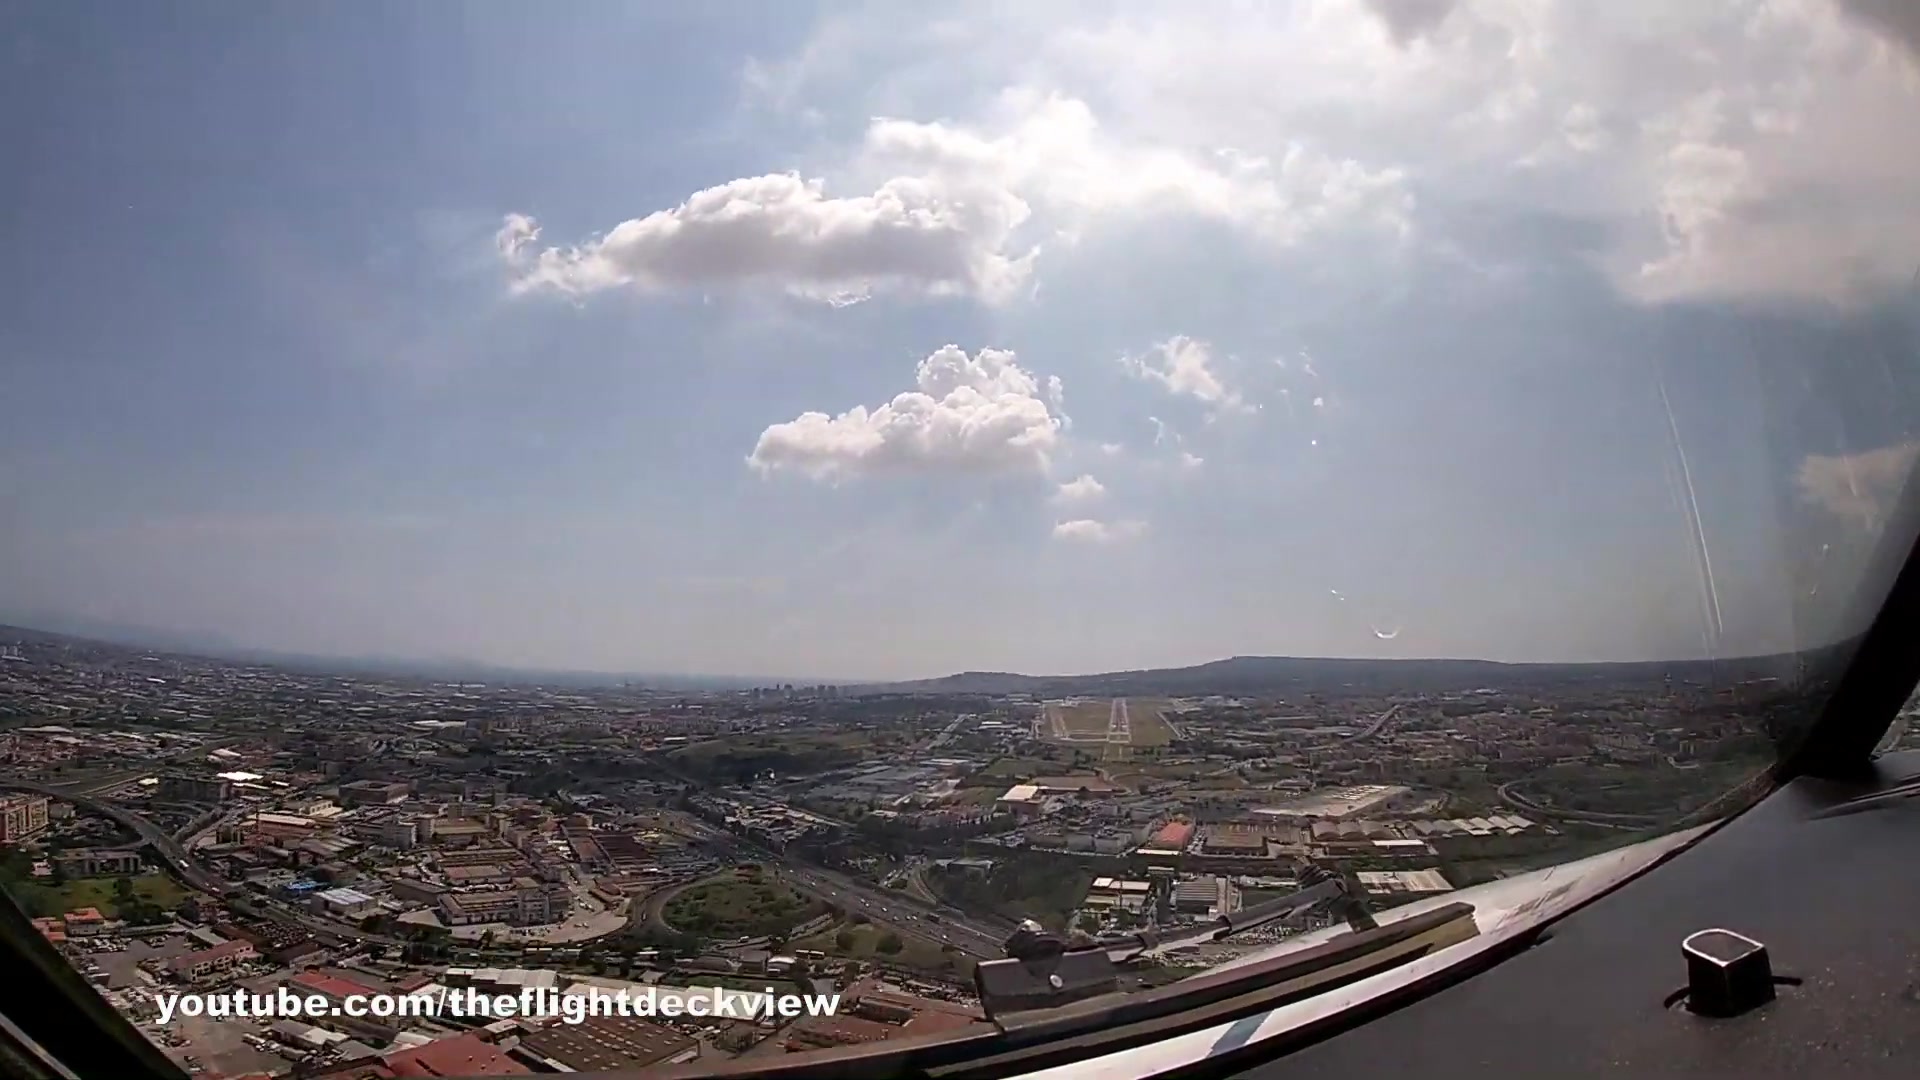runway: (1105, 695, 1131, 745)
